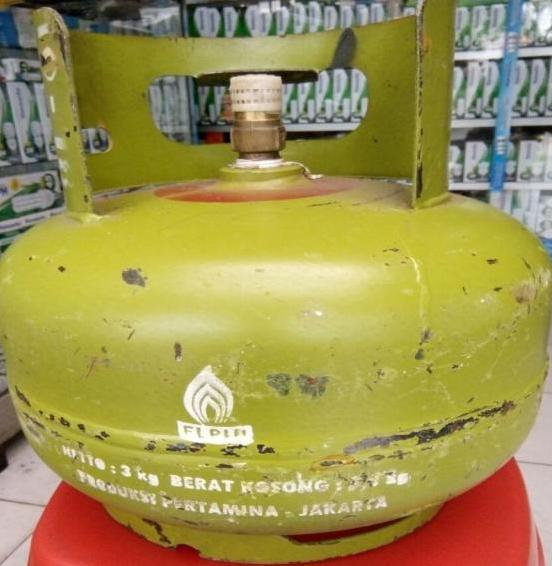cylinder: (1, 0, 552, 566)
